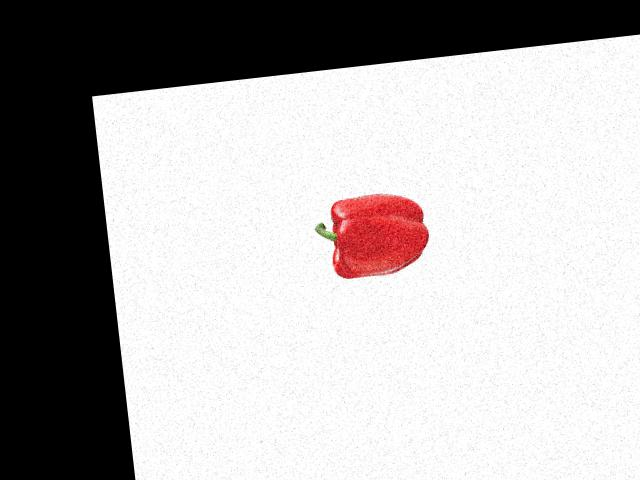bell_pepper: (311, 183, 436, 287)
